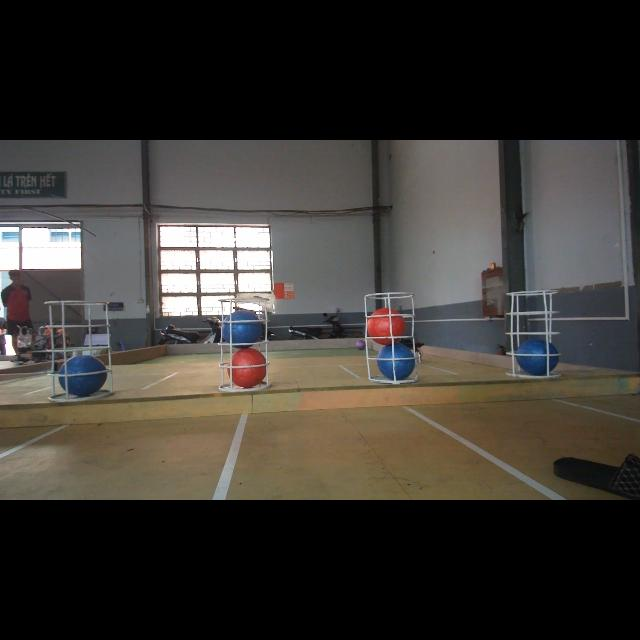B: (57, 355, 106, 395), (515, 338, 561, 378), (223, 311, 263, 347), (376, 344, 414, 381)
R: (228, 348, 268, 388), (366, 306, 406, 344)
